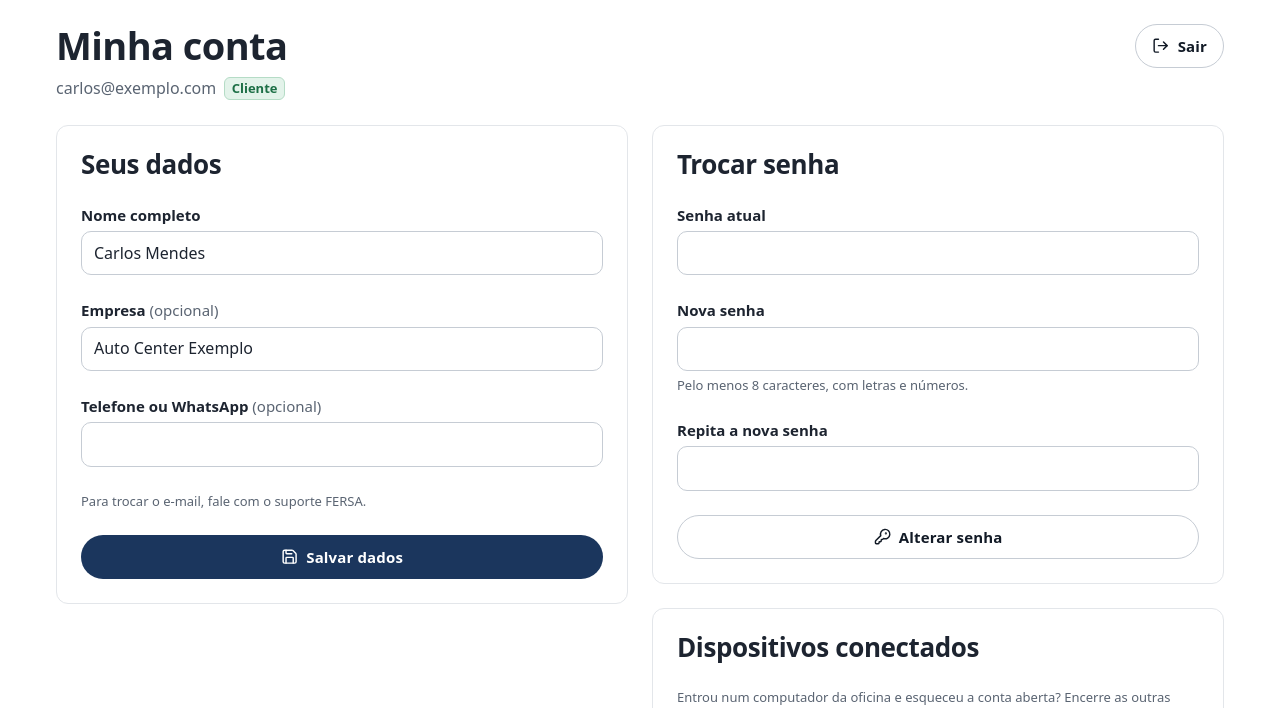
Test: Minha conta: segurança da sessão › "Sair" sem conexão: avisa e continua na conta (antes, falhava em silêncio)
Click the button "Sair" at (1180, 46), box left=1135, top=24, right=1224, bottom=68
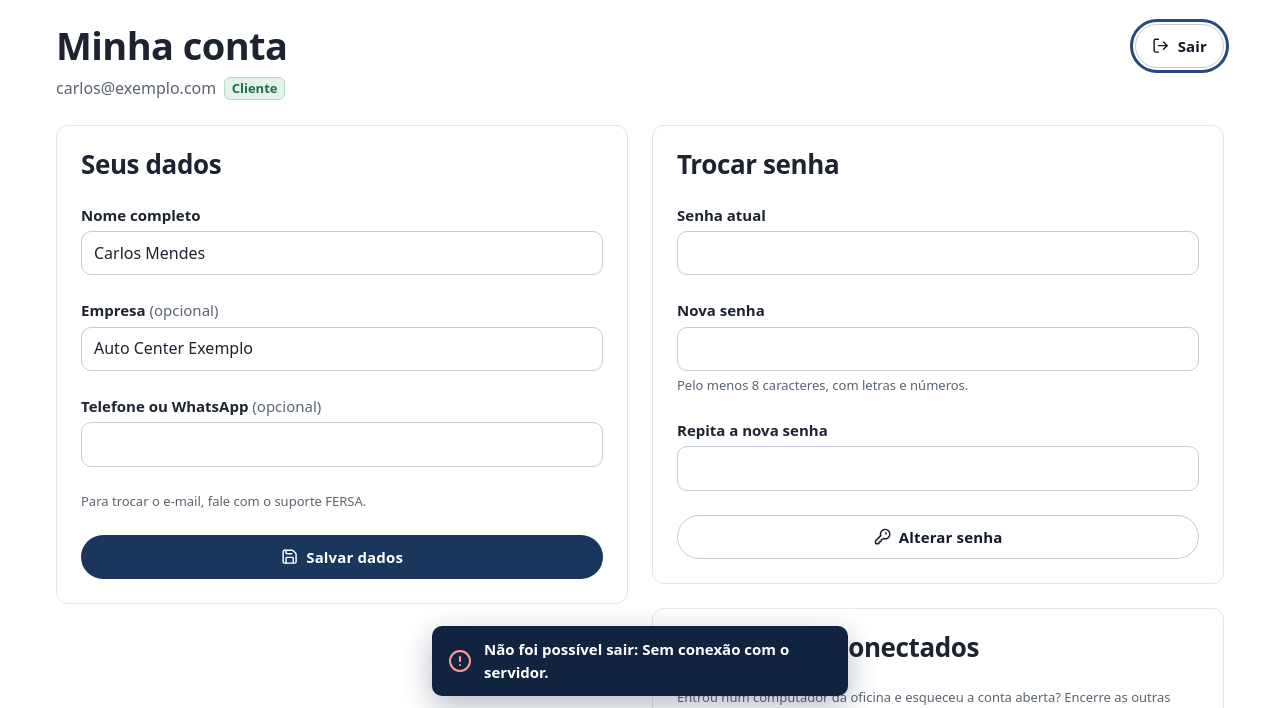
Expected: the text "Não foi possível sair: Sem conexão com o servidor." is shown, left=484, top=638, right=832, bottom=684
